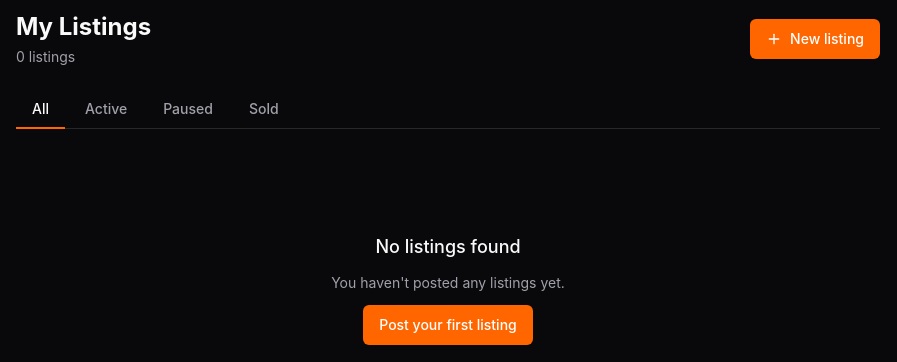
MyListingsDashboard — empty states › shows filtered empty state with active filter
This screenshot has width=897, height=362.
Step 1. Click the tab "Paused" → (188, 110), box [147,91,229,129]
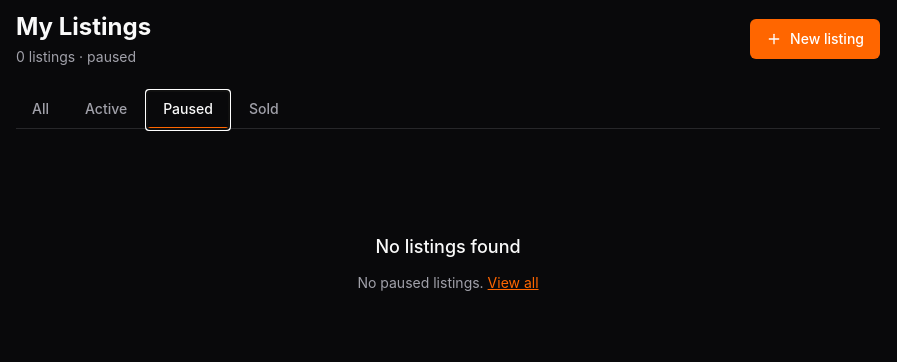
expect the text "No listings found" is shown: met, box [375,236,521,257]
expect the text "No paused listings. View all" is shown: met, box [357,273,539,293]
expect the button "View all" is shown: met, box [488,273,539,293]
